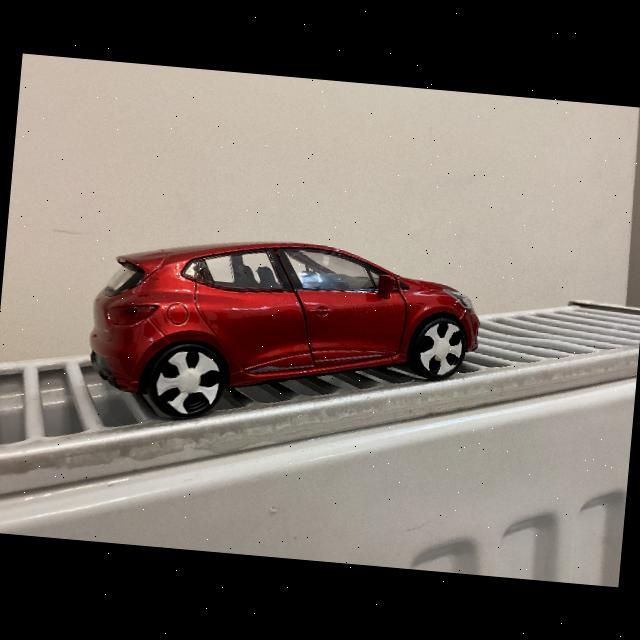Yanlis_Jant: (152, 348, 222, 418), (416, 320, 464, 377)
